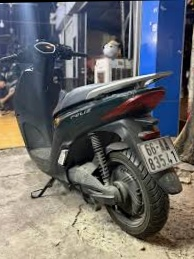Bien-so: (135, 139, 179, 179)
